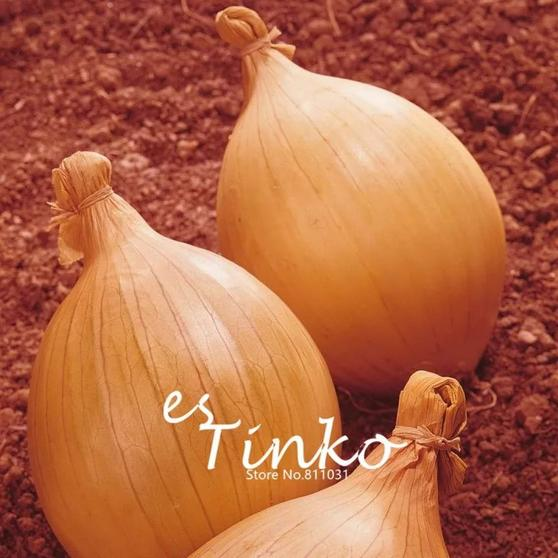onion: (199, 14, 530, 409), (27, 172, 348, 558)
